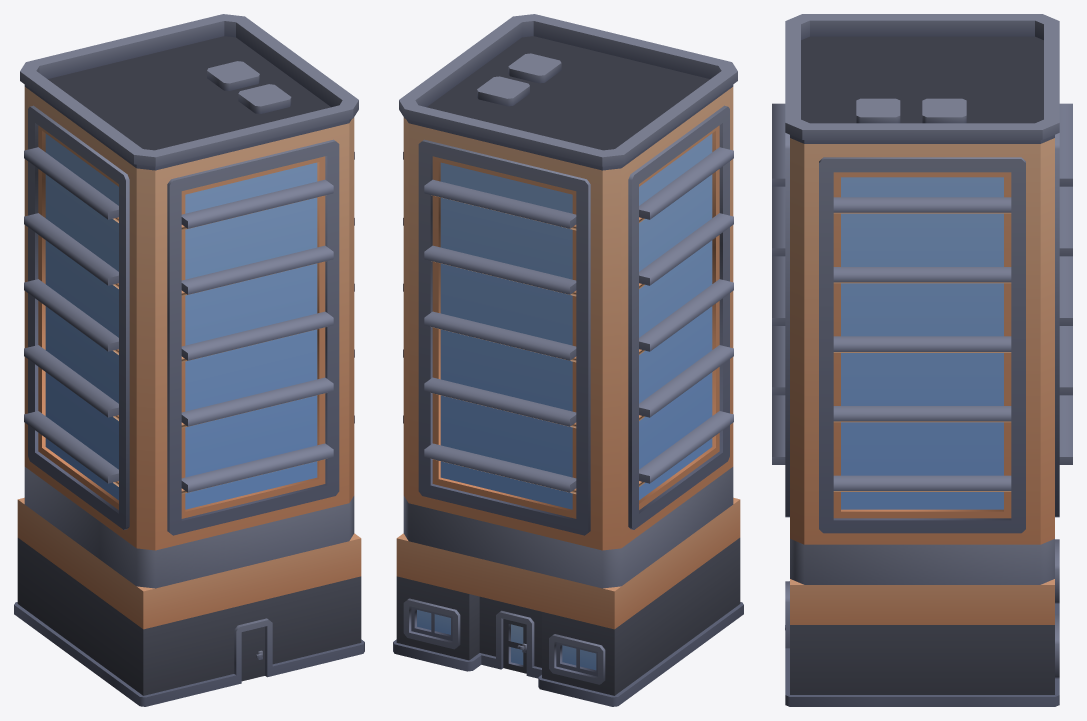
File: building-skyscraper-a.glb
3 renders of one model, left to right at view 1: azimuth 30°, elevation 25°; view 2: azimuth 150°, elevation 25°; view 3: azimuth 270°, elevation 25°, orthographic. The views are drawn at different scales.
Parts seen in each view (by area): view 1: building-skyscraper-a; view 2: building-skyscraper-a; view 3: building-skyscraper-a.
Part boxes in pixels (bbox=[...]): building-skyscraper-a: bbox=[14, 14, 364, 706]; building-skyscraper-a: bbox=[393, 14, 743, 706]; building-skyscraper-a: bbox=[772, 14, 1072, 706].
Bounding box in the file's own units: 1.36 × 2.88 × 1.36.
Materials: 1 (1 with a texture image).
